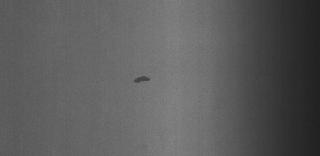oil spot: (132, 72, 154, 86)
